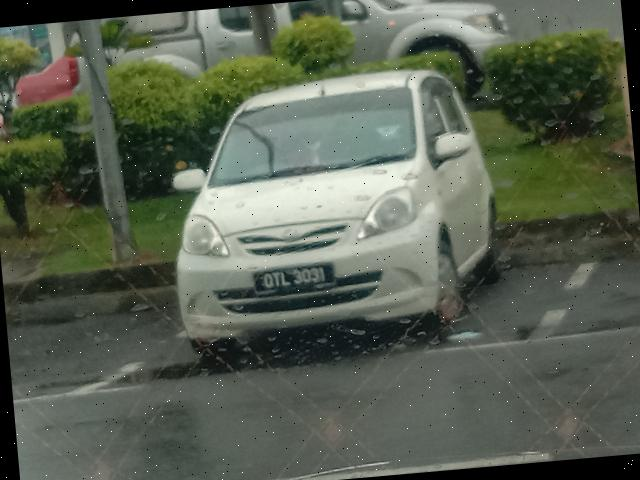License_Plate: (253, 262, 339, 302)
car: (158, 65, 511, 368)
